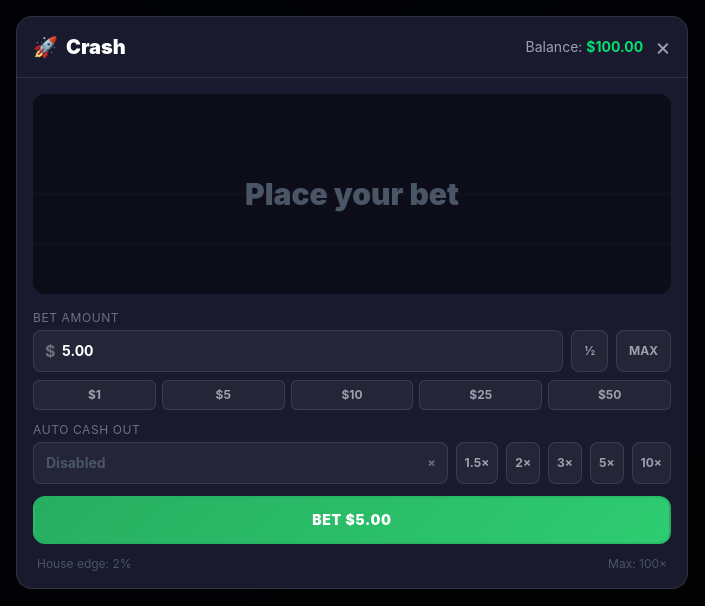
Test: Crash › sets bet amount via quick bet buttons
Click the button "$25": x=481, y=394 [419,380,542,410]
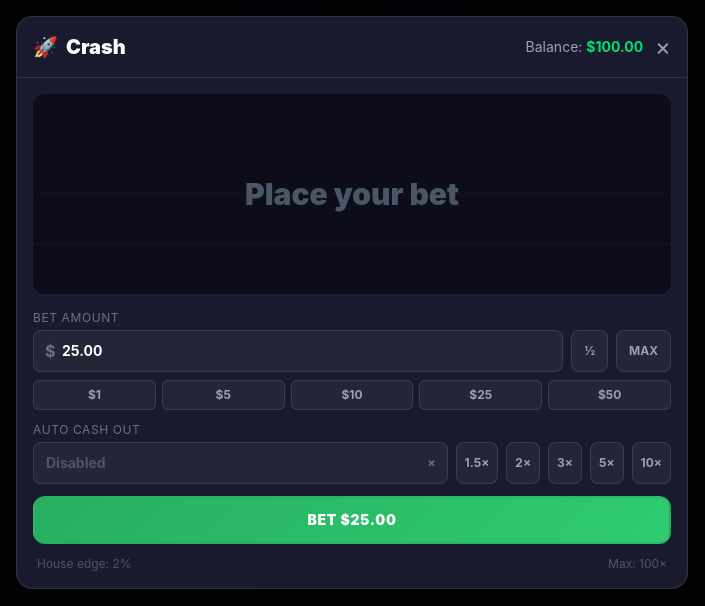
Check: the button "Bet $25.00" is shown, box [33,496,671,544]
